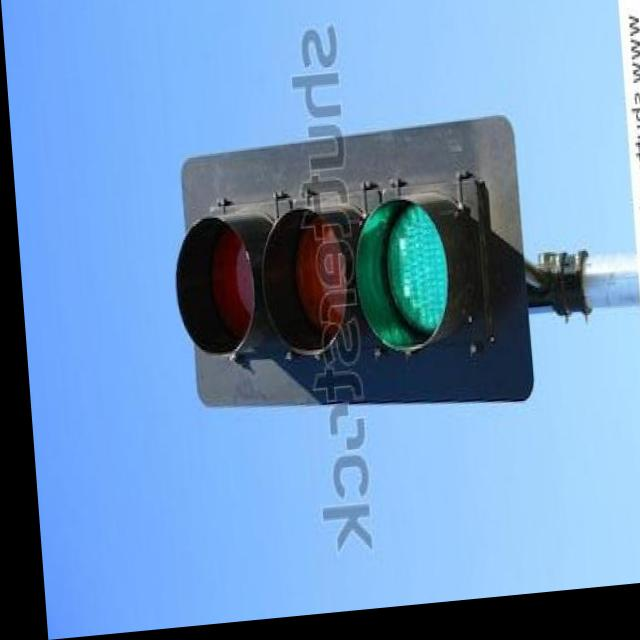green light: (162, 168, 511, 410)
